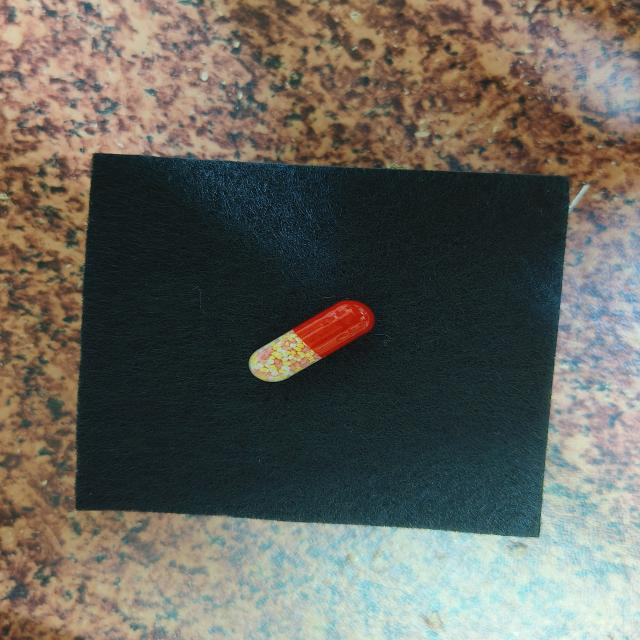Intact Capsule: (249, 300, 375, 382)
